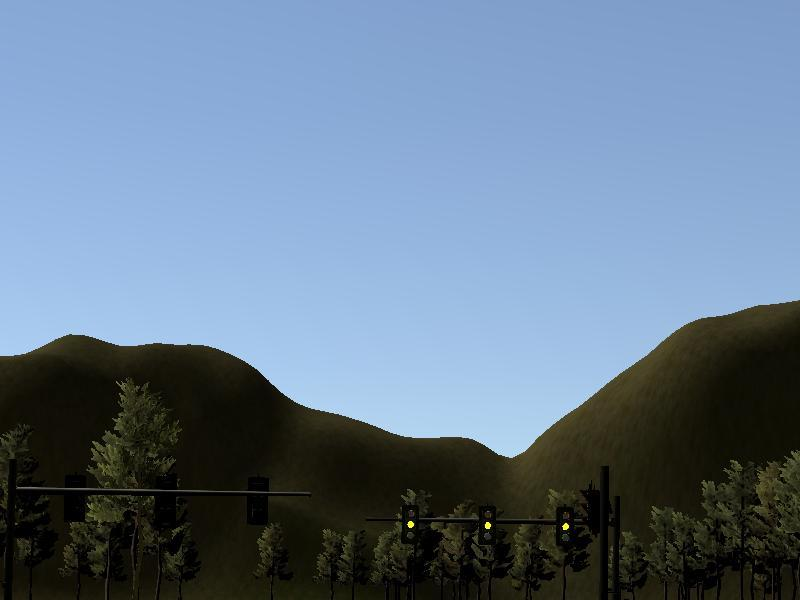Yellow: (556, 506, 575, 548), (478, 506, 496, 545), (402, 506, 419, 543)
